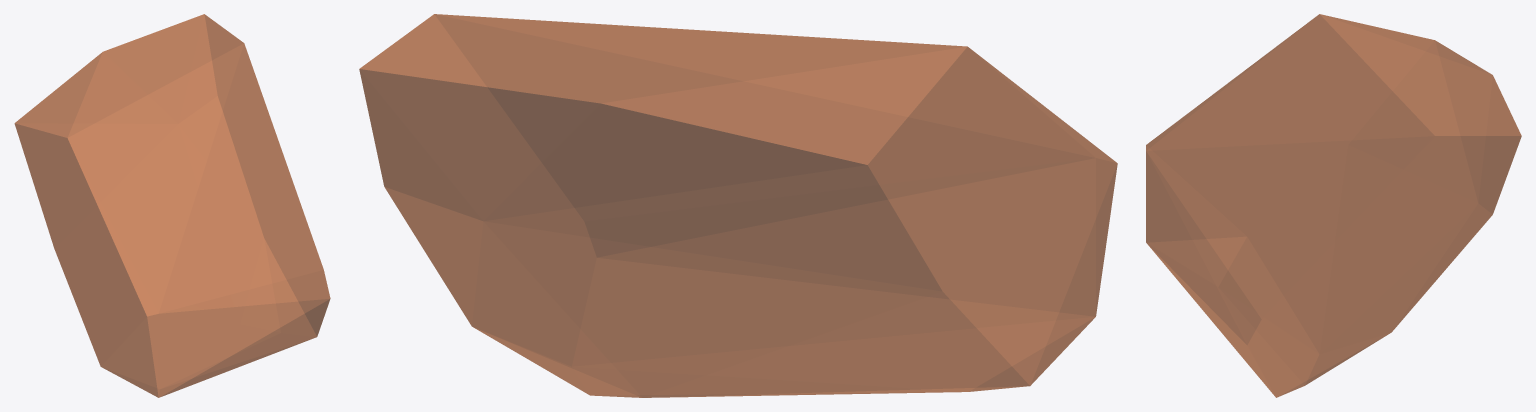
3 renders of one model, left to right at view 1: azimuth 30°, elevation 25°; view 2: azimuth 150°, elevation 25°; view 3: azimuth 270°, elevation 25°, orthographic. The views are drawn at different scales.
Visible parts, largest first — view 1: Shape_IndexedFaceSet.038_Shape_IndexedFaceSet.7789; view 2: Shape_IndexedFaceSet.038_Shape_IndexedFaceSet.7789; view 3: Shape_IndexedFaceSet.038_Shape_IndexedFaceSet.7789.
Part boxes in pixels (x1,y1,x2,y2): Shape_IndexedFaceSet.038_Shape_IndexedFaceSet.7789: (14,14,330,397); Shape_IndexedFaceSet.038_Shape_IndexedFaceSet.7789: (359,14,1117,397); Shape_IndexedFaceSet.038_Shape_IndexedFaceSet.7789: (1146,14,1521,397).
Size of the model in its own units: 0.0273 by 0.0273 by 0.0355.
